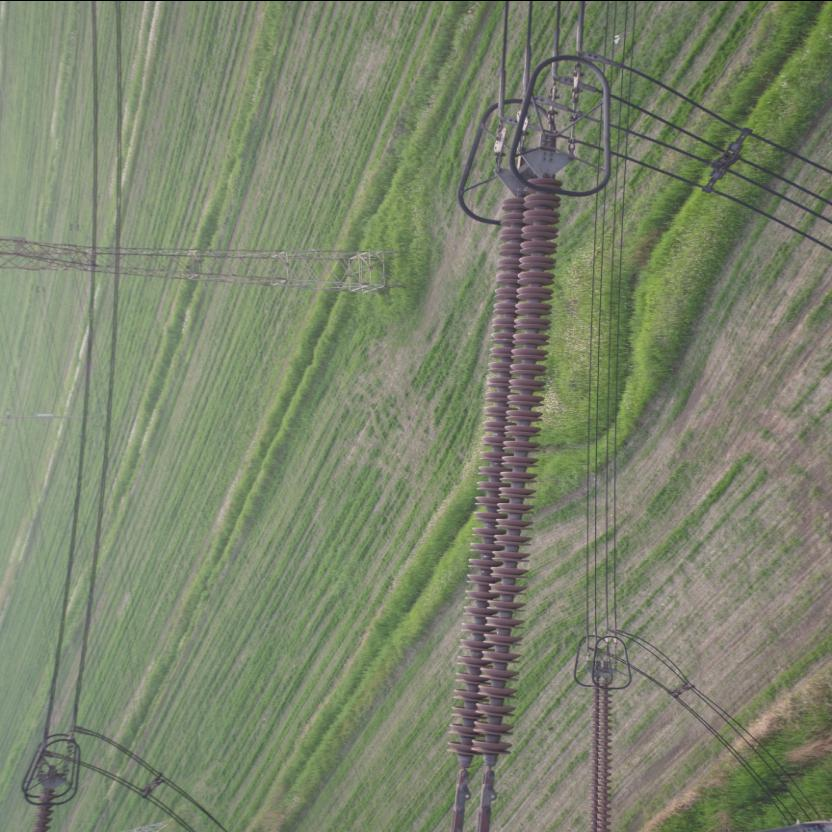insulator: (442, 166, 567, 798), (586, 674, 612, 832)
